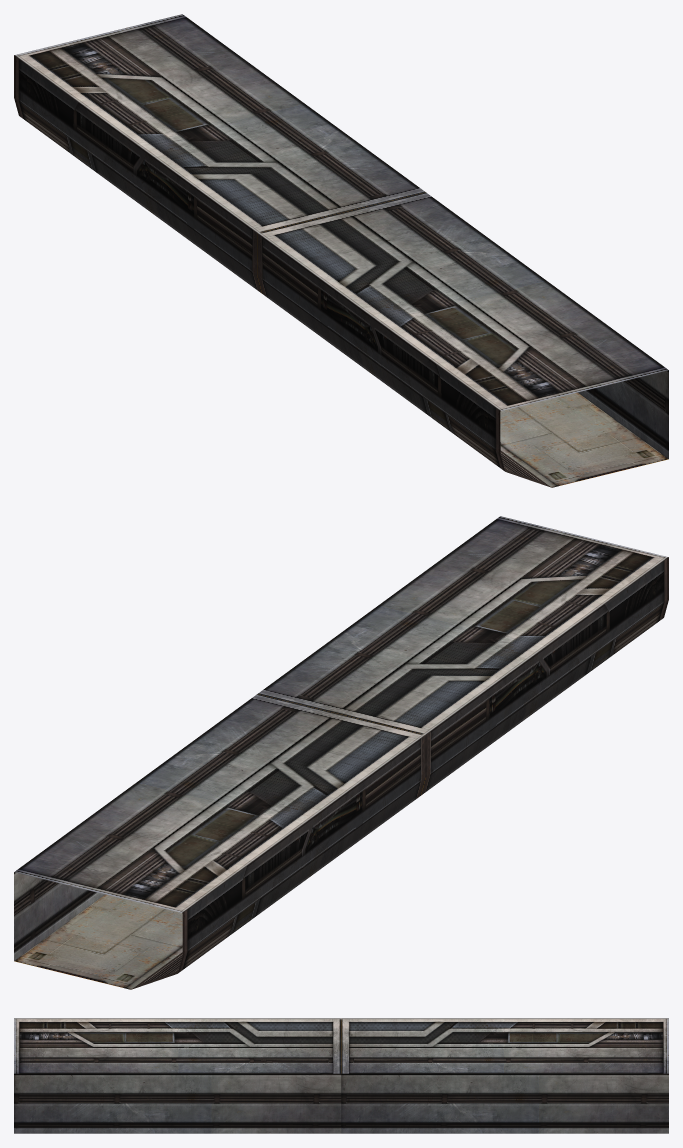
File: Edge_02.fbx
3 views of the same model, one above another, from view 1: azimuth 30°, elevation 25°; view 2: azimuth 150°, elevation 25°; view 3: azimuth 270°, elevation 25° (orthographic). The views are drawn at different scales.
Visible parts, largest first — view 1: Edge_02; view 2: Edge_02; view 3: Edge_02.
Boxes of the visible parts, x1,y1,x2,y2 form: Edge_02: (14,14,668,487); Edge_02: (14,516,668,989); Edge_02: (14,1018,668,1133).
Bounding box in the file's own units: 100 × 50.53 × 500.
